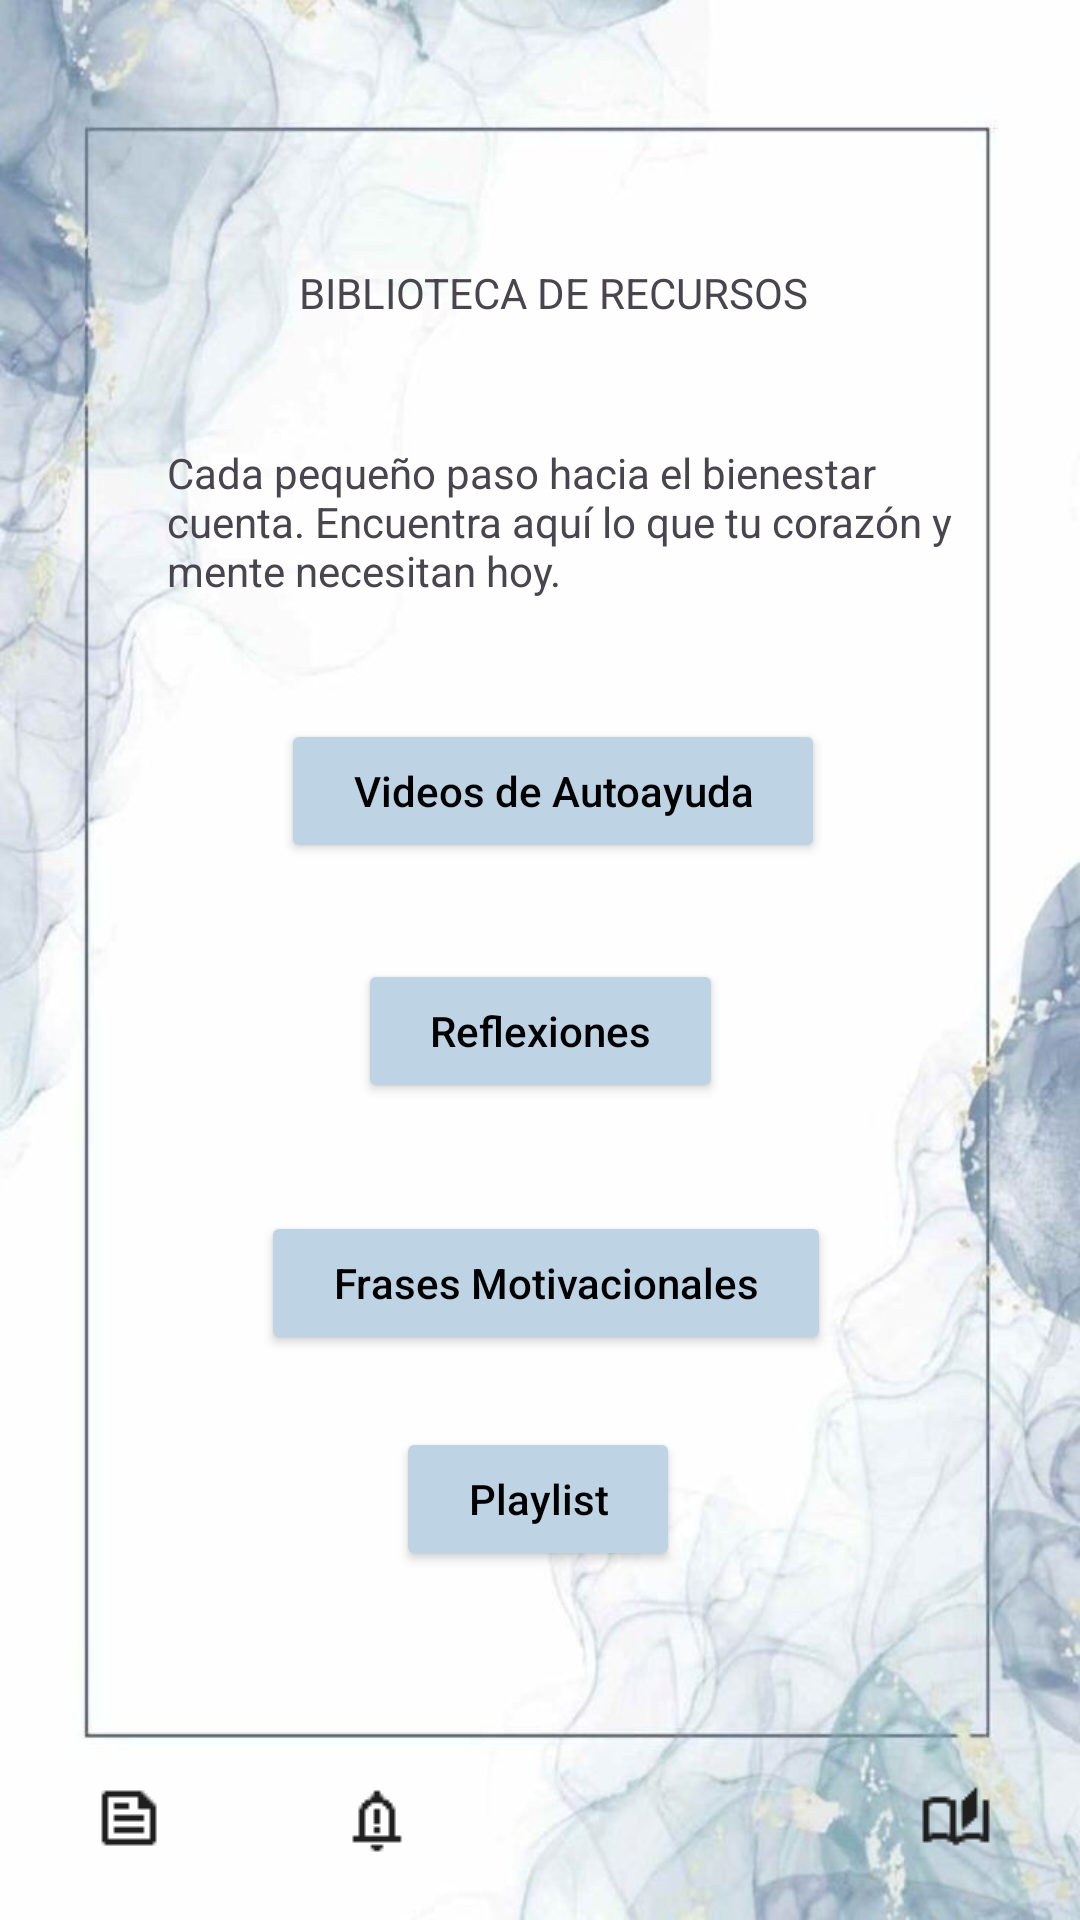

Point at icon controls on the screen. Image size 1080 x 1920, points as (x,y).
Botón de notificaciones: (377,1821)
